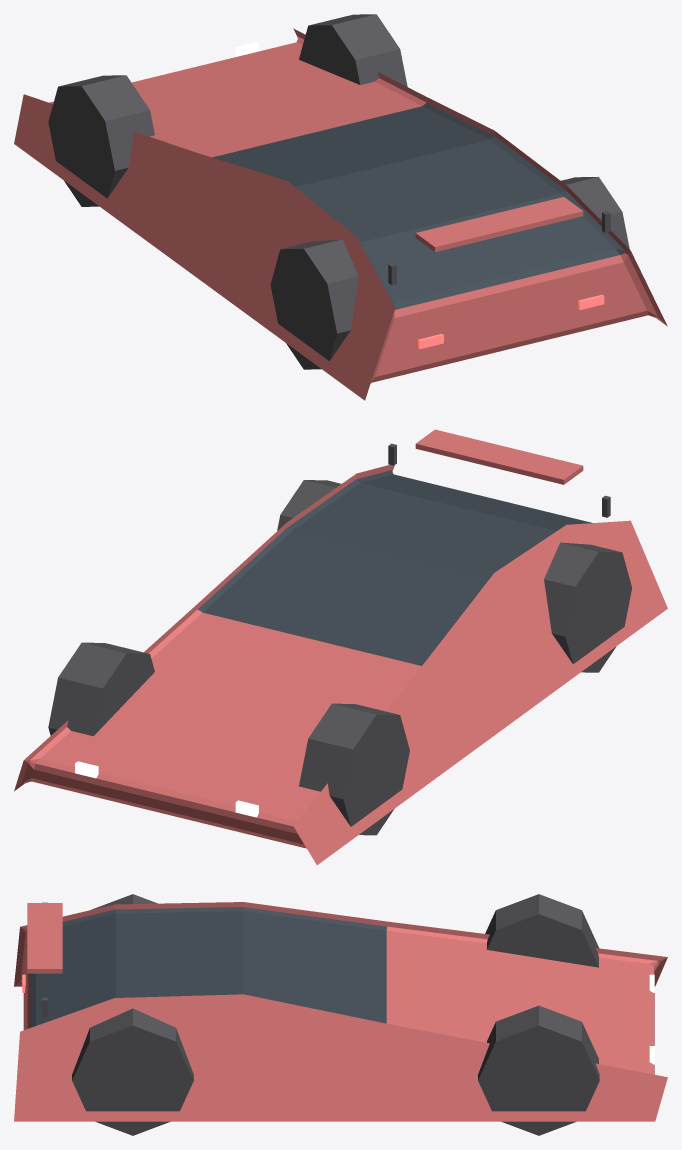
File: car_5_wedge.glb
The picture shows the model from 3 angles, top to bottom: view 1: azimuth 30°, elevation 25°; view 2: azimuth 150°, elevation 25°; view 3: azimuth 270°, elevation 25°; orthographic projection. The views are drawn at different scales.
Visible parts, largest first — view 1: car_5_wedge_body, Arch, Arch.002, Arch.001, Spoiler, Arch.003; view 2: car_5_wedge_body, Arch, Arch.002, Arch.001, Spoiler, Arch.003; view 3: car_5_wedge_body, Arch.001, Arch.003, Arch, Spoiler.
Boxes of the visible parts, bbox=[...] form: car_5_wedge_body: bbox=[14, 28, 667, 400]; Arch: bbox=[48, 75, 154, 206]; Arch.002: bbox=[270, 239, 358, 369]; Arch.001: bbox=[299, 14, 407, 86]; Spoiler: bbox=[415, 197, 583, 252]; Arch.003: bbox=[561, 176, 629, 249]; car_5_wedge_body: bbox=[14, 465, 667, 864]; Arch: bbox=[299, 703, 409, 835]; Arch.002: bbox=[544, 542, 631, 672]; Arch.001: bbox=[48, 642, 154, 736]; Spoiler: bbox=[415, 429, 583, 484]; Arch.003: bbox=[277, 480, 341, 530]; car_5_wedge_body: bbox=[14, 902, 667, 1121]; Arch.001: bbox=[478, 1005, 599, 1135]; Arch.003: bbox=[72, 1008, 193, 1135]; Arch: bbox=[485, 894, 598, 967]; Spoiler: bbox=[27, 903, 62, 973].
Size of the model in its own units: 1.89 by 0.875 by 3.87.
